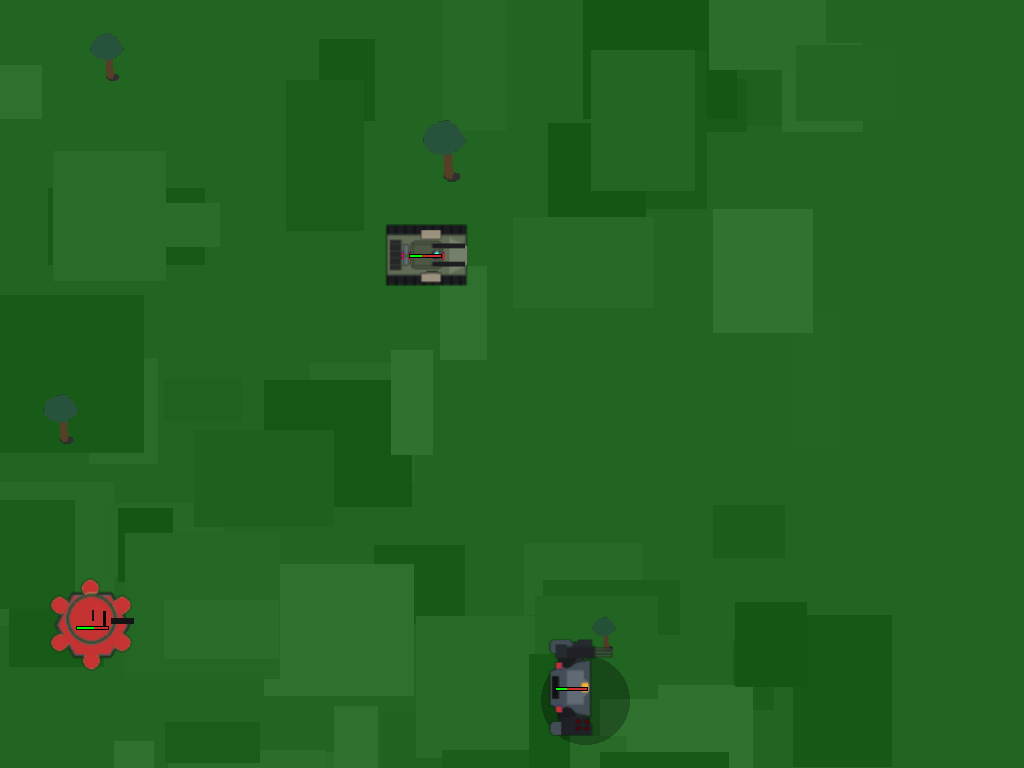APC_chn: (47, 580, 137, 670)
Bastion: (538, 653, 604, 719)
TerminatorIFV: (391, 219, 459, 287)
